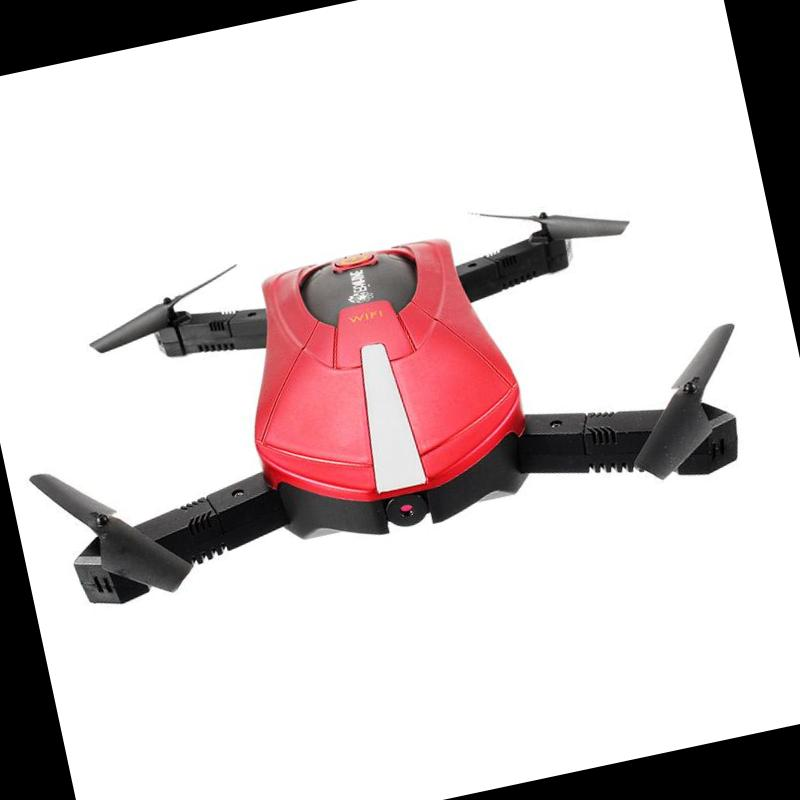drone: (0, 152, 781, 655)
